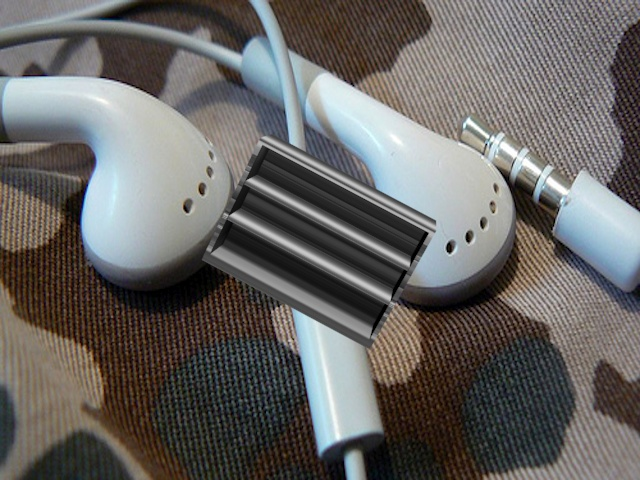bookcase: (201, 129, 440, 352)
